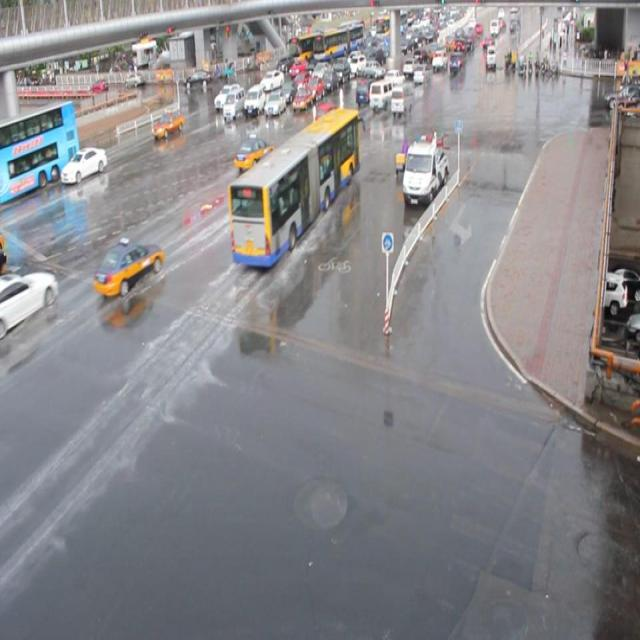bus: (402, 137, 448, 206)
car: (92, 237, 165, 296), (1, 270, 58, 334), (61, 146, 108, 182), (233, 132, 276, 169), (255, 147, 293, 187), (293, 122, 327, 162), (151, 109, 185, 139), (312, 102, 340, 134), (354, 77, 379, 106), (214, 84, 242, 108), (265, 92, 286, 117), (292, 87, 312, 113), (260, 70, 284, 91), (305, 77, 324, 102), (279, 80, 298, 104), (292, 72, 311, 94)
truck: (368, 80, 396, 112), (389, 83, 412, 117), (223, 86, 246, 118), (246, 85, 268, 116)
van: (227, 108, 360, 268), (1, 98, 81, 206)
